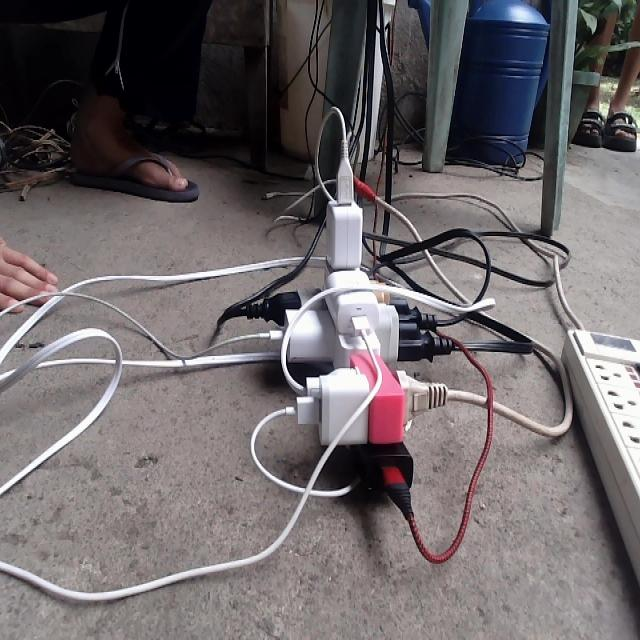-: (250, 104, 469, 528)
